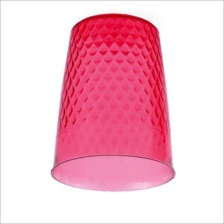glass: (45, 9, 182, 200)
